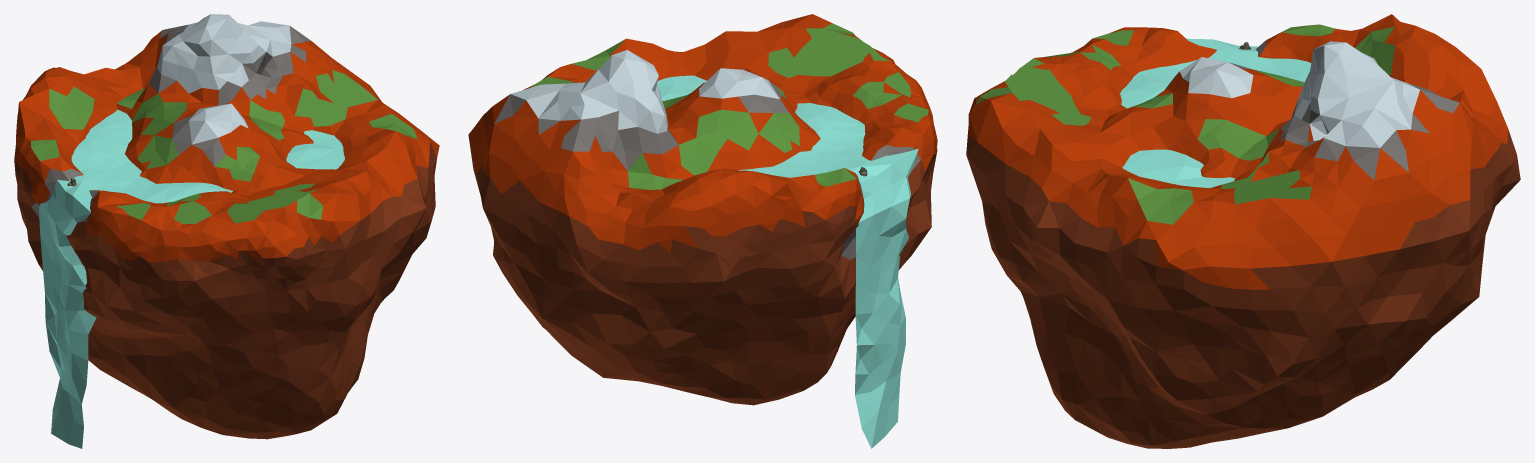
Rendered from map.glb.
The picture shows the model from 3 angles, left to right: view 1: azimuth 30°, elevation 25°; view 2: azimuth 150°, elevation 25°; view 3: azimuth 270°, elevation 25°; orthographic projection. The views are drawn at different scales.
Parts seen in each view (by area): view 1: Icosphere, Plane; view 2: Icosphere, Plane; view 3: Icosphere, Plane.
Boxes of the visible parts, box(x1,y1,x2,y2) form: Icosphere: box(14, 14, 439, 439); Plane: box(39, 109, 344, 448); Icosphere: box(468, 14, 937, 405); Plane: box(657, 75, 918, 448); Icosphere: box(966, 14, 1520, 448); Plane: box(1120, 38, 1311, 188).
Size of the model in its own units: 1.8 by 1.68 by 2.03.
3 materials, 1 textured.
